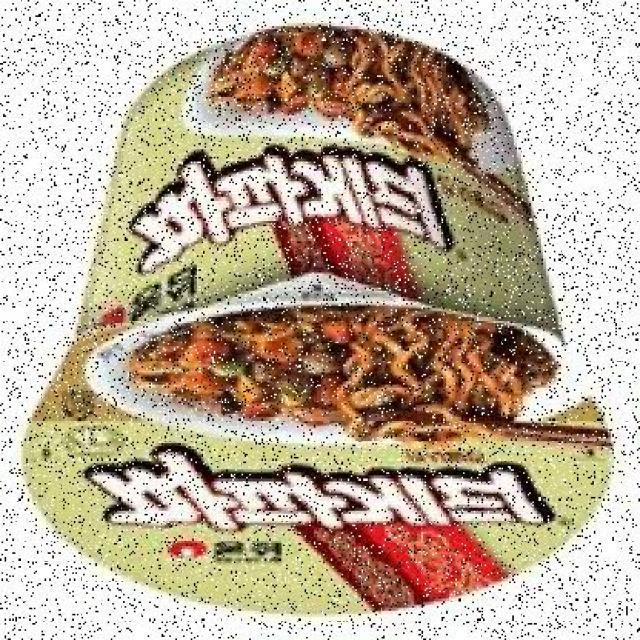Miscellaneous: (26, 52, 614, 617)
